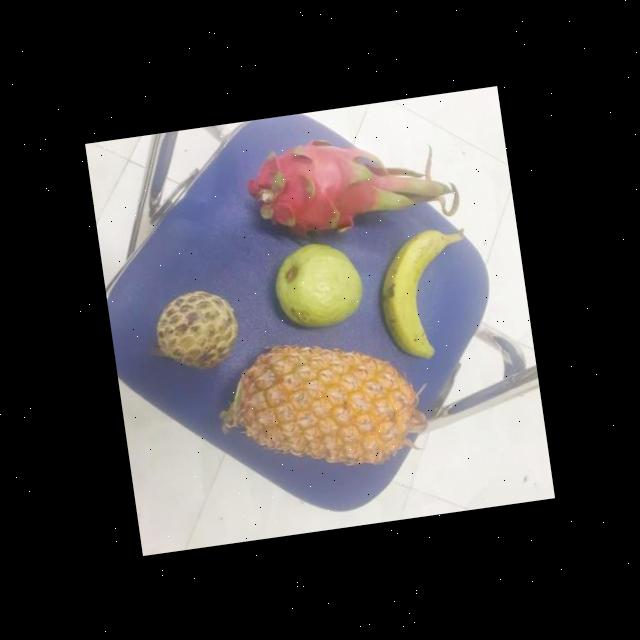Sakya fruit: (153, 285, 246, 377)
banana: (372, 226, 473, 363)
guava: (272, 236, 367, 338)
pineapple: (220, 329, 430, 486)
pitaya: (250, 128, 400, 251)
